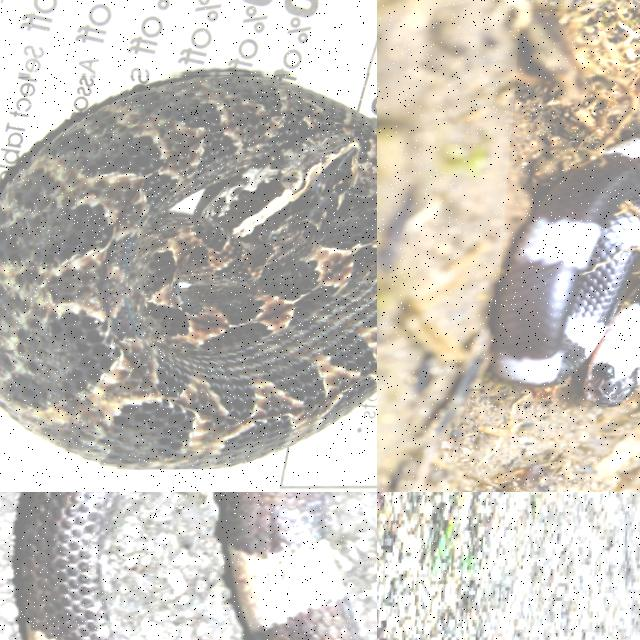Bungarus candidus: (494, 134, 639, 405), (222, 492, 362, 639)
Calloselasma rhodostoma: (0, 71, 376, 468), (377, 492, 387, 505)
snake: (0, 71, 376, 468), (494, 134, 639, 405), (222, 492, 362, 639), (377, 492, 387, 505)
